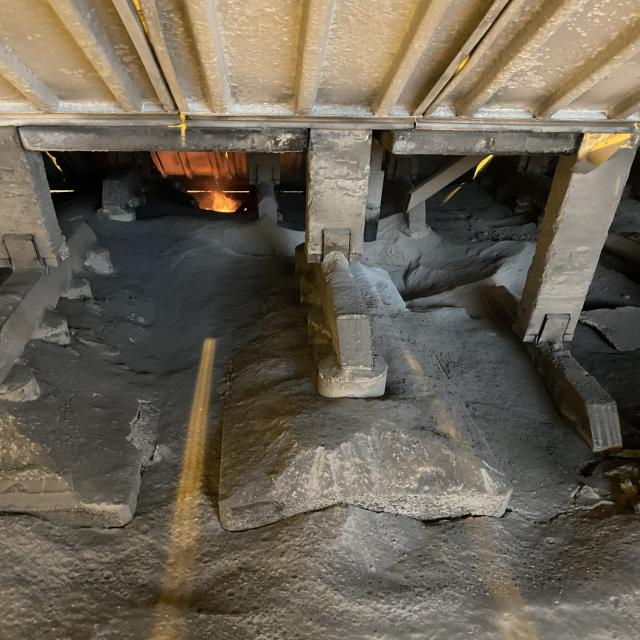Blackspot: (223, 489, 516, 533), (27, 502, 134, 530)
